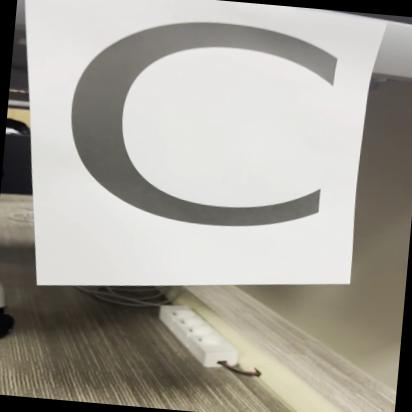seat: (28, 0, 368, 272)
